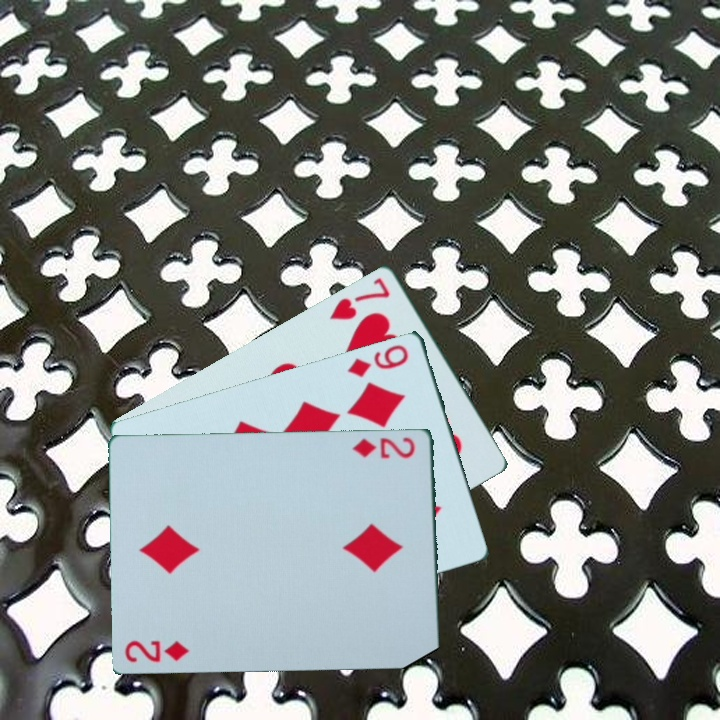2d: (121, 636, 192, 667), (349, 433, 418, 461)
7h: (326, 273, 393, 323)
9d: (343, 340, 412, 380)
